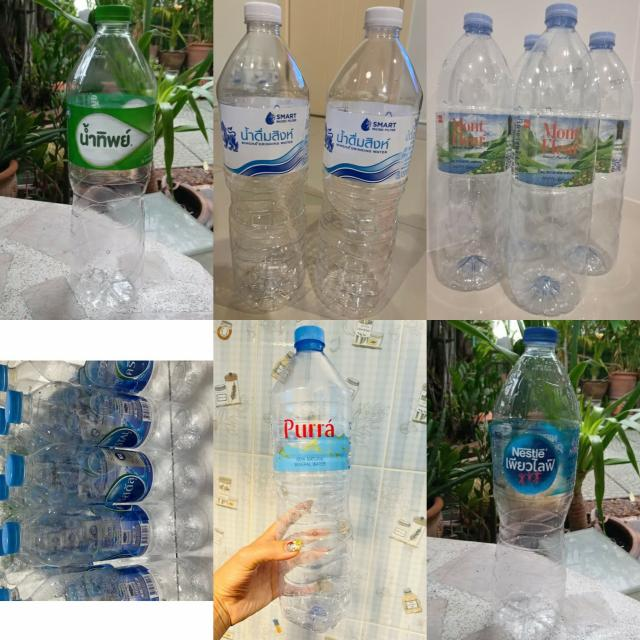plastik: (316, 8, 422, 317), (216, 3, 309, 311), (508, 4, 600, 315), (490, 328, 580, 637), (66, 5, 156, 308), (270, 327, 352, 632), (429, 13, 512, 290), (5, 382, 211, 451), (2, 503, 210, 565), (5, 444, 206, 504), (588, 31, 632, 275)
